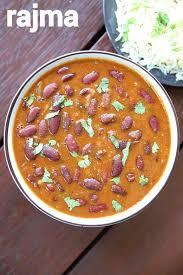rajma: (29, 59, 178, 238)
